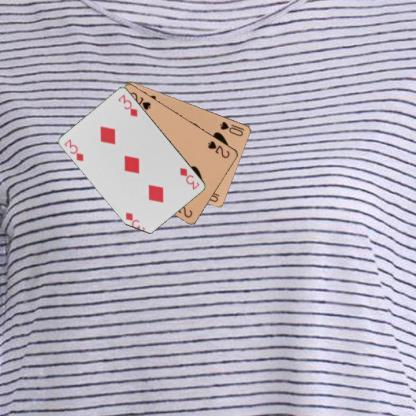10s: (218, 119, 245, 138)
2s: (206, 138, 231, 160)
3d: (176, 165, 202, 191), (62, 136, 85, 162)
